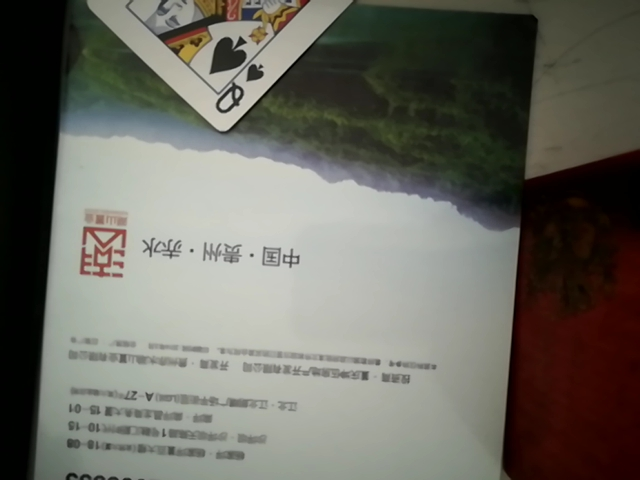ht q: (80, 0, 383, 141)
